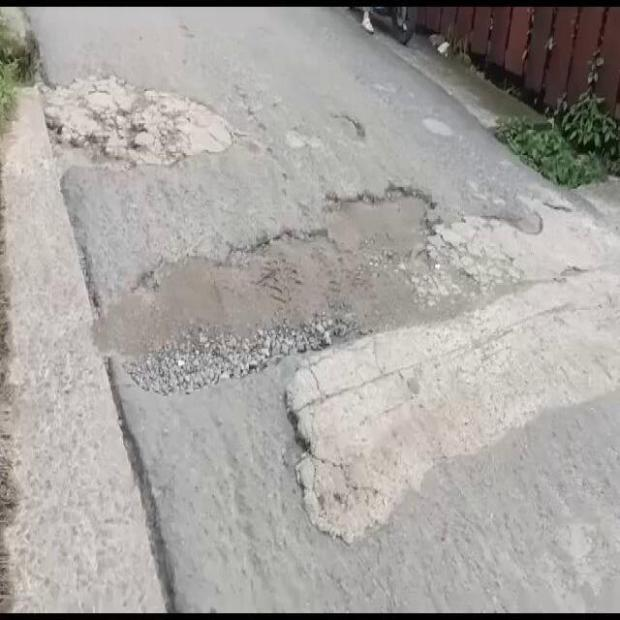lubang: (95, 189, 591, 392), (40, 76, 259, 172), (329, 113, 365, 139)
